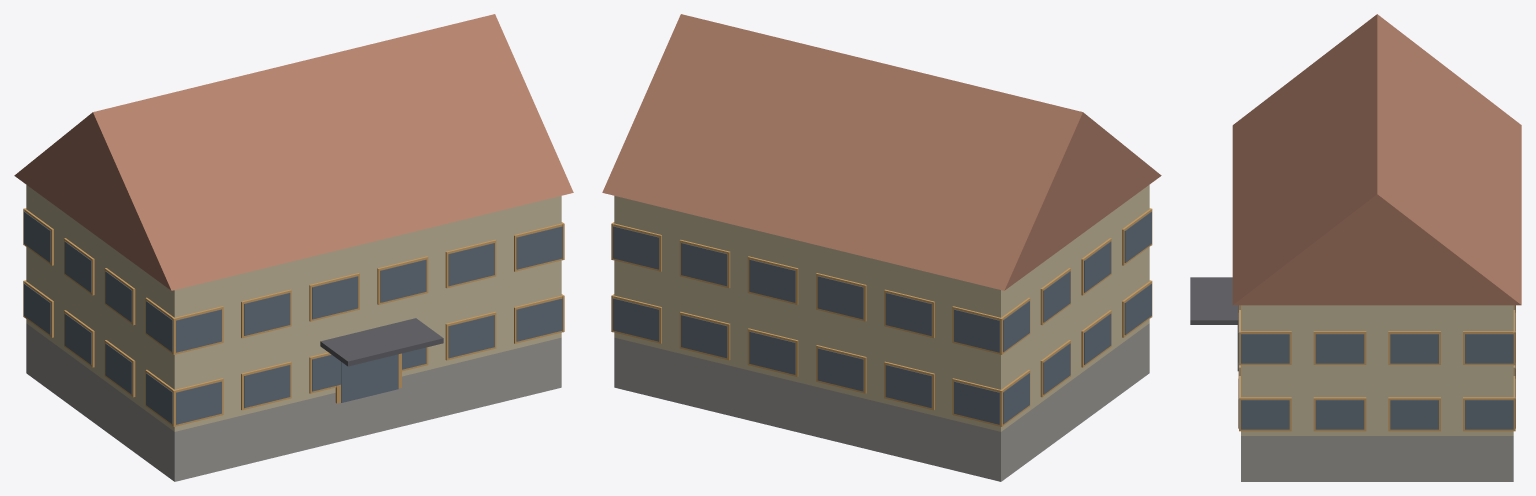
The model's file is landmark-kindergarten-431078930.glb.
The picture shows the model from 3 angles, left to right: view 1: azimuth 30°, elevation 25°; view 2: azimuth 150°, elevation 25°; view 3: azimuth 270°, elevation 25°; orthographic projection. The views are drawn at different scales.
Parts seen in each view (by area): view 1: building; view 2: building; view 3: building.
Part boxes in pixels (x1,y1,x2,y2): building: (14, 14, 573, 481); building: (602, 14, 1161, 481); building: (1190, 14, 1521, 481).
Size of the model in its own units: 21.02 by 15.85 by 16.35.
